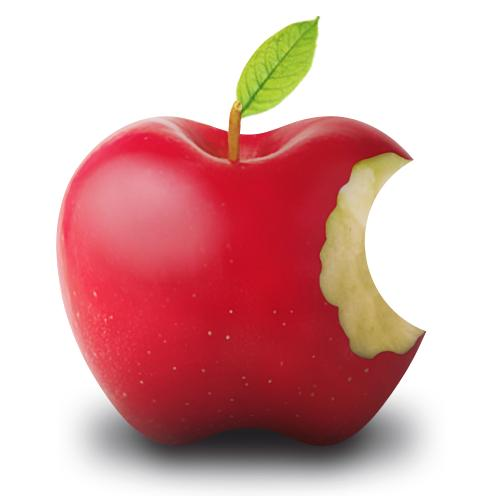Apple Fresh: (56, 60, 438, 448)
